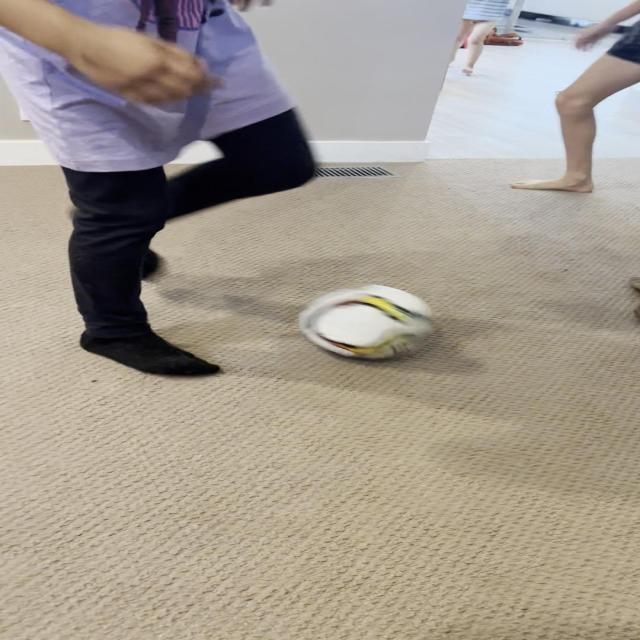Soccer Ball: (301, 282, 434, 358)
